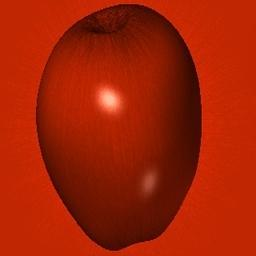apple: (36, 4, 202, 252)
